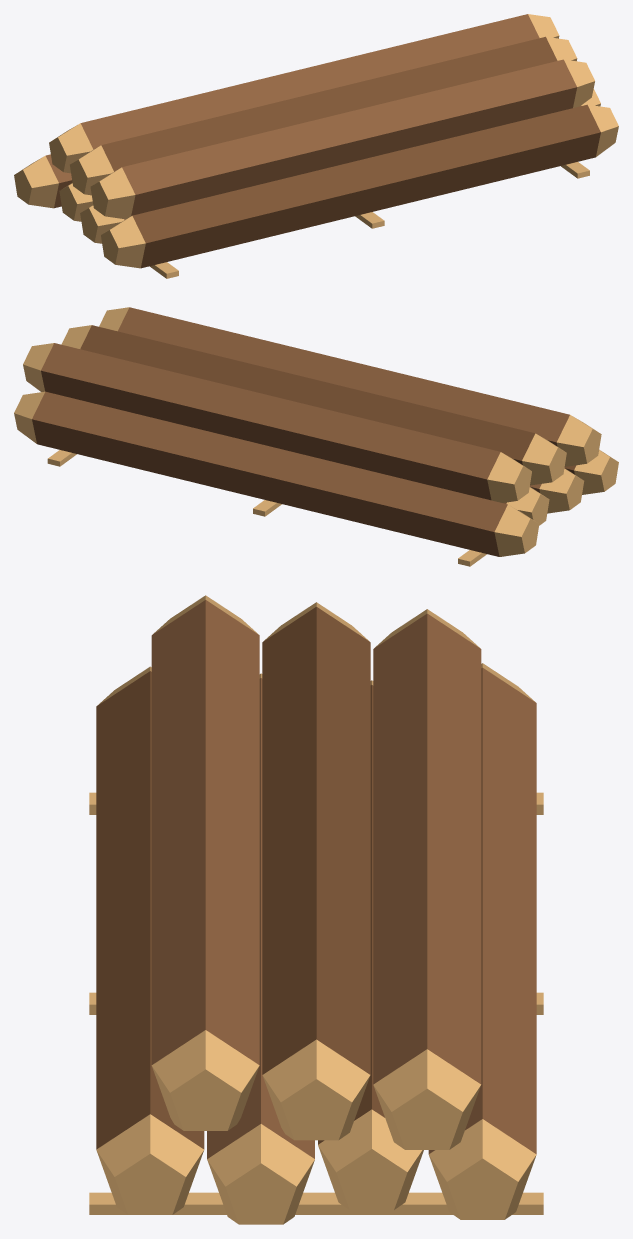
File: pile_logs_2.glb
3 views of the same model, one above another, from view 1: azimuth 30°, elevation 25°; view 2: azimuth 150°, elevation 25°; view 3: azimuth 270°, elevation 25° (orthographic). The views are drawn at different scales.
Visible parts, largest first — view 1: pile_logs_2; view 2: pile_logs_2; view 3: pile_logs_2.
Part boxes in pixels (x1,y1,x2,y2): pile_logs_2: (14,14,618,278); pile_logs_2: (14,307,618,566); pile_logs_2: (89,595,543,1224).
Bounding box in the file's own units: 12.5 × 2.19 × 4.8.
